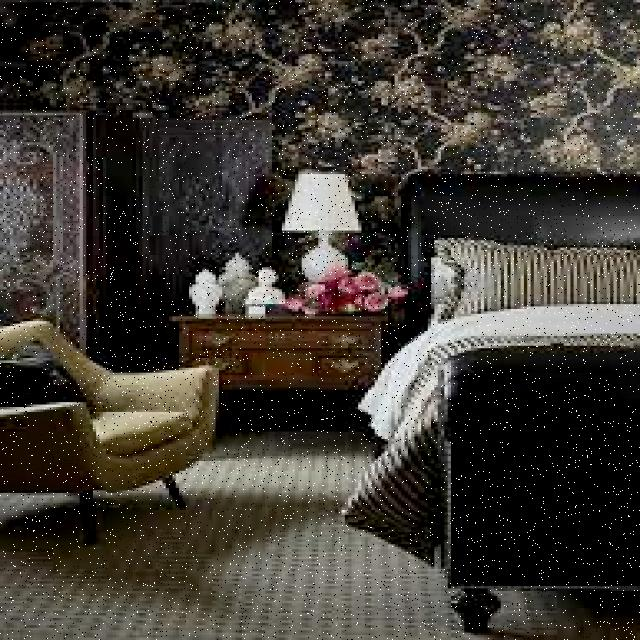bed: (409, 220, 640, 368)
